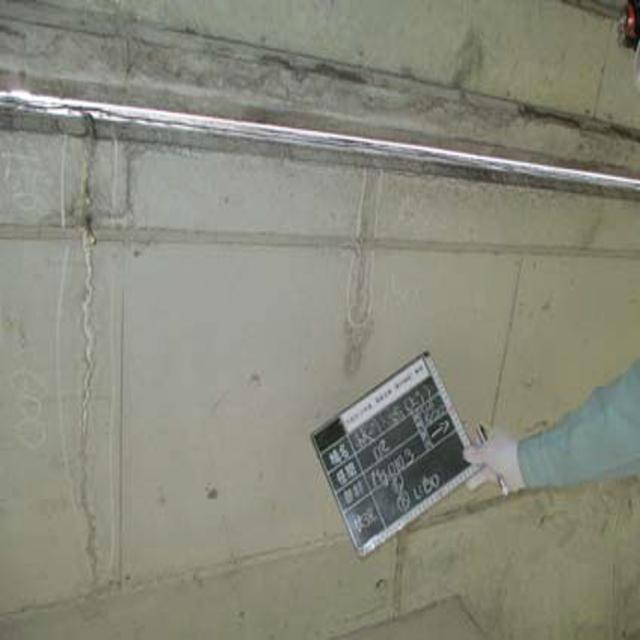freelime: (15, 77, 640, 220)
